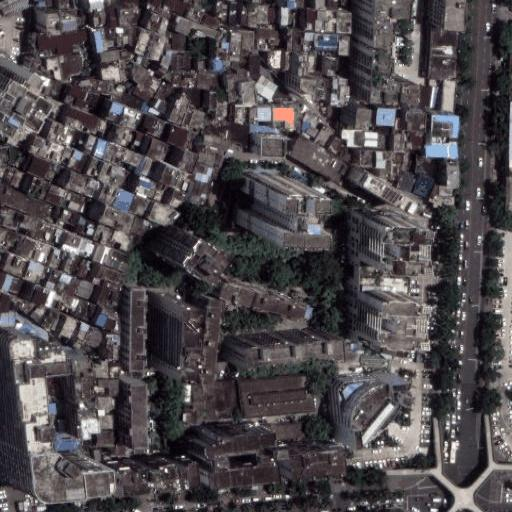building: (189, 419, 263, 477), (326, 371, 388, 438), (219, 282, 307, 320), (239, 375, 315, 417), (225, 325, 325, 355), (105, 455, 187, 490), (289, 137, 349, 184), (353, 44, 403, 99), (347, 218, 403, 267), (235, 173, 286, 226), (362, 173, 422, 217), (346, 291, 400, 338), (150, 223, 199, 271), (70, 358, 98, 438), (191, 380, 242, 421), (277, 445, 334, 476), (356, 0, 395, 42), (147, 289, 169, 360), (182, 294, 201, 376), (428, 31, 461, 78), (346, 265, 401, 293), (44, 183, 89, 214), (126, 287, 142, 371), (64, 104, 107, 135), (98, 202, 137, 235), (324, 372, 361, 405), (131, 385, 148, 455), (38, 32, 88, 55), (65, 171, 104, 199), (98, 160, 134, 190), (23, 360, 72, 382), (174, 16, 217, 40), (47, 116, 79, 147), (94, 262, 125, 292), (132, 74, 162, 103), (36, 221, 68, 248), (37, 136, 67, 164), (165, 123, 195, 150), (148, 202, 181, 225), (67, 211, 97, 236), (169, 94, 192, 126), (140, 114, 169, 139), (101, 139, 127, 166), (2, 253, 30, 278), (118, 106, 146, 130), (425, 136, 456, 157), (28, 154, 53, 180), (147, 136, 173, 161), (128, 194, 154, 219), (71, 253, 95, 280), (431, 114, 459, 137), (64, 84, 89, 109), (58, 53, 83, 78), (134, 175, 159, 200), (424, 0, 448, 26), (255, 74, 279, 100), (3, 227, 26, 254), (359, 149, 389, 169), (74, 297, 98, 322), (96, 286, 121, 310), (39, 286, 63, 311), (95, 308, 120, 331), (18, 234, 41, 259), (91, 223, 114, 247), (313, 124, 335, 149), (413, 173, 435, 198), (105, 248, 130, 270), (184, 179, 210, 200), (271, 106, 294, 129), (98, 182, 121, 205), (159, 163, 181, 187), (251, 136, 276, 157), (48, 245, 69, 270), (24, 258, 45, 283), (330, 78, 350, 104), (276, 423, 306, 440), (148, 32, 166, 60), (316, 9, 337, 33), (403, 111, 427, 132), (34, 240, 55, 264), (60, 315, 80, 340), (72, 325, 92, 350), (442, 77, 456, 112), (179, 149, 200, 172), (114, 188, 135, 211), (74, 277, 95, 300), (135, 153, 155, 177), (131, 215, 152, 237), (111, 229, 132, 251), (78, 238, 100, 259), (62, 232, 84, 253), (198, 143, 218, 166), (105, 101, 125, 124), (85, 156, 105, 179), (135, 28, 151, 56), (9, 166, 28, 189), (148, 158, 166, 182), (82, 132, 100, 156), (149, 13, 169, 34), (193, 162, 213, 183), (122, 147, 143, 167), (18, 278, 38, 299), (51, 428, 72, 448), (132, 63, 150, 86), (45, 309, 63, 332), (315, 33, 340, 49), (119, 7, 140, 26), (397, 170, 416, 191), (167, 187, 186, 208), (118, 127, 137, 148), (106, 122, 125, 143), (203, 134, 229, 149), (173, 72, 197, 88), (241, 83, 257, 107), (391, 151, 407, 175), (62, 250, 78, 274), (184, 4, 205, 22), (342, 129, 363, 147), (216, 29, 229, 58), (240, 30, 255, 55), (96, 378, 118, 395), (75, 152, 92, 174), (92, 136, 108, 159), (87, 328, 105, 348), (30, 304, 48, 324), (174, 171, 191, 192), (27, 135, 44, 156), (356, 108, 372, 130), (326, 135, 344, 154), (392, 132, 409, 152), (45, 270, 62, 290), (45, 13, 61, 34), (377, 108, 395, 126), (298, 57, 315, 76), (92, 360, 109, 379), (408, 130, 424, 150), (337, 12, 352, 33), (131, 130, 146, 151), (447, 163, 460, 187), (47, 55, 60, 79), (418, 85, 432, 107), (65, 277, 79, 299), (21, 172, 37, 191), (94, 244, 110, 263), (250, 124, 280, 134), (21, 152, 36, 172), (508, 99, 512, 172), (231, 32, 241, 61), (98, 428, 114, 446), (101, 67, 120, 82), (190, 109, 205, 128), (153, 182, 168, 201), (336, 146, 353, 162), (92, 8, 107, 26), (299, 79, 317, 94), (200, 13, 219, 27), (197, 69, 211, 88), (247, 55, 259, 77), (100, 49, 120, 62), (1, 295, 14, 315), (100, 414, 116, 430), (94, 30, 105, 53), (416, 156, 431, 172), (97, 397, 114, 411), (234, 107, 247, 125), (239, 4, 249, 27), (268, 50, 280, 69), (107, 343, 119, 362), (60, 207, 73, 224), (172, 35, 185, 52), (186, 193, 204, 205), (108, 5, 118, 26), (257, 107, 272, 121), (306, 9, 316, 30), (182, 384, 193, 403), (60, 19, 77, 31), (115, 444, 132, 456), (258, 5, 269, 23), (249, 5, 258, 27), (215, 102, 226, 120), (258, 29, 280, 38), (52, 204, 65, 219), (506, 176, 512, 208), (430, 87, 439, 108), (154, 6, 171, 17), (88, 0, 105, 11), (211, 57, 222, 74), (227, 74, 238, 91), (108, 362, 119, 379), (304, 111, 317, 125), (364, 132, 377, 146), (153, 99, 167, 112), (280, 5, 289, 25), (328, 57, 338, 75), (147, 105, 162, 117), (230, 3, 237, 27), (340, 33, 348, 54), (286, 29, 294, 50), (303, 306, 315, 320), (58, 274, 72, 286), (269, 8, 280, 23), (173, 54, 184, 69), (377, 125, 392, 136), (213, 154, 224, 169), (159, 55, 171, 68), (306, 125, 318, 138), (63, 146, 75, 159), (103, 38, 115, 51), (257, 37, 268, 51), (249, 107, 258, 124), (437, 186, 454, 195), (208, 92, 216, 110), (228, 90, 239, 103), (68, 156, 79, 169), (285, 50, 292, 70), (141, 56, 153, 67), (182, 412, 194, 423), (184, 54, 192, 69), (57, 0, 70, 9), (161, 0, 175, 8), (108, 334, 119, 344), (221, 4, 227, 22), (443, 195, 455, 204), (316, 80, 329, 88), (119, 49, 129, 59), (146, 3, 156, 13), (238, 71, 248, 81), (72, 149, 82, 159), (301, 41, 310, 52), (304, 32, 315, 41), (302, 121, 311, 132), (150, 0, 163, 7), (154, 69, 164, 78), (221, 60, 230, 70), (119, 69, 127, 80), (377, 136, 385, 147), (211, 74, 218, 86), (427, 77, 436, 86), (24, 303, 33, 312), (73, 0, 81, 10), (135, 54, 143, 64), (36, 0, 47, 7), (119, 59, 126, 70), (268, 37, 279, 44), (165, 42, 173, 51), (349, 343, 358, 351), (128, 32, 135, 42), (417, 353, 424, 363), (394, 118, 400, 129), (331, 0, 338, 9), (287, 0, 296, 7), (115, 27, 124, 34), (296, 0, 303, 8), (197, 61, 204, 69), (123, 0, 137, 3), (508, 88, 512, 98), (124, 35, 129, 43), (165, 51, 172, 56), (341, 0, 347, 4)
